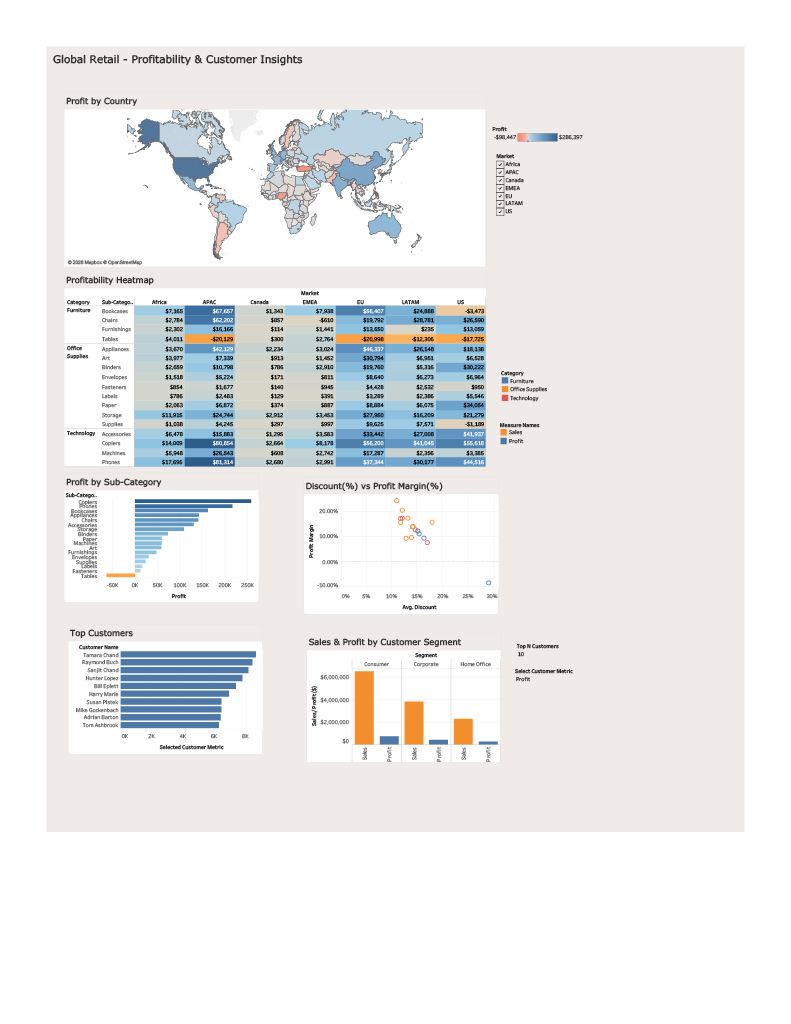

This screenshot's page, from the dashboard's own definition file:
{"tool":"tableau","page":{"name":"Global Retail - Profitability & Customer Insights","canvas":[1600,1800],"ordinal":2},"visuals":[{"type":"title","box":[8,8,1584,39]},{"type":"worksheet","title":"Profit by Country","mark":"Multipolygon","box":[40,105,969,401]},{"type":"legend","title":"Profit by Country","param":"[federated.1czodah1cvxrqu1f7vqc61xwy50v].[sum:Profit:qk]","box":[1022,175,212,78]},{"type":"filter","title":"Profit by Country","param":"[federated.1czodah1cvxrqu1f7vqc61xwy50v].[none:Market:nk]","box":[1031,241,184,198]},{"type":"worksheet","title":"Profitability Heatmap","mark":"Automatic","rows":["Category","Sub-Category"],"cols":["Market"],"box":[40,514,969,451]},{"type":"legend","title":"Discount(%) vs Profit Margin(%)","param":"[federated.1czodah1cvxrqu1f7vqc61xwy50v].[none:Category:nk]","box":[1041,736,140,79]},{"type":"legend","title":"Sales & Profit by Customer Segment","param":"[federated.1czodah1cvxrqu1f7vqc61xwy50v].[:Measure Names]","box":[1038,855,140,59]},{"type":"worksheet","title":"Profit by Sub-Category","mark":"Automatic","rows":["Sub-Category"],"cols":["Profit"],"box":[40,977,447,298]},{"type":"worksheet","title":"Discount(%) vs Profit Margin(%)","mark":"Automatic","rows":["Calculation_0015250569039958"],"cols":["Discount"],"box":[589,986,447,315]},{"type":"worksheet","title":"Top Customers","mark":"Automatic","rows":["Customer Name"],"cols":["Calculation_0014840738922650"],"box":[49,1324,447,298]},{"type":"worksheet","title":"Sales & Profit by Customer Segment","mark":"Automatic","cols":["Segment"],"box":[596,1344,447,298]},{"type":"parameter","param":"[Parameters].[Parameter 0014840739348635]","box":[1078,1363,160,48]},{"type":"parameter","param":"[Parameters].[Parameter 0014840738603161]","box":[1074,1420,160,48]}]}

Visuals, with their boxes on the page's 1600x1800 design canvas (x1, y1, x2, y2). These are canvas units, not pixel positions in the 791x1024 screenshot, which may show the page scaled, cropped or inside an application window:
title: (8,8,1592,47)
"Profit by Country" worksheet (Multipolygon marks): (40,105,1009,506)
"Profit by Country" legend: (1022,175,1234,253)
"Profit by Country" filter: (1031,241,1215,439)
"Profitability Heatmap" worksheet: (40,514,1009,965)
"Discount(%) vs Profit Margin(%)" legend: (1041,736,1181,815)
"Sales & Profit by Customer Segment" legend: (1038,855,1178,914)
"Profit by Sub-Category" worksheet: (40,977,487,1275)
"Discount(%) vs Profit Margin(%)" worksheet: (589,986,1036,1301)
"Top Customers" worksheet: (49,1324,496,1622)
"Sales & Profit by Customer Segment" worksheet: (596,1344,1043,1642)
parameter: (1078,1363,1238,1411)
parameter: (1074,1420,1234,1468)
